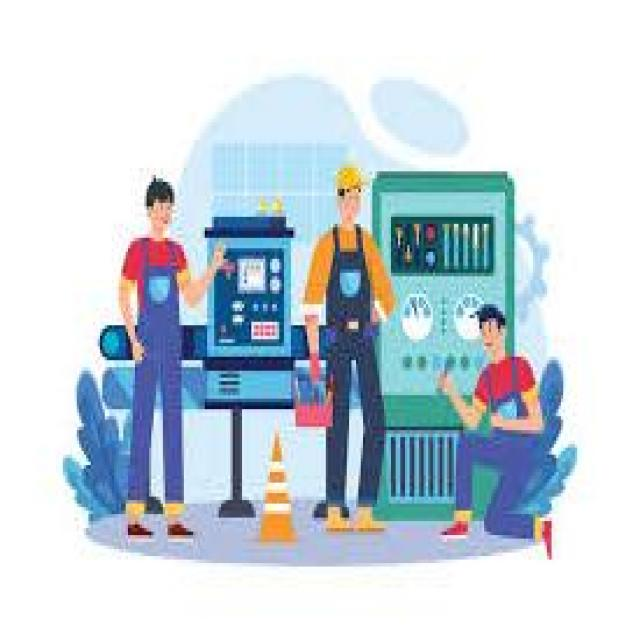Reflective-Jacket: (312, 224, 379, 353)
Safety-Helmet: (330, 157, 368, 196)
